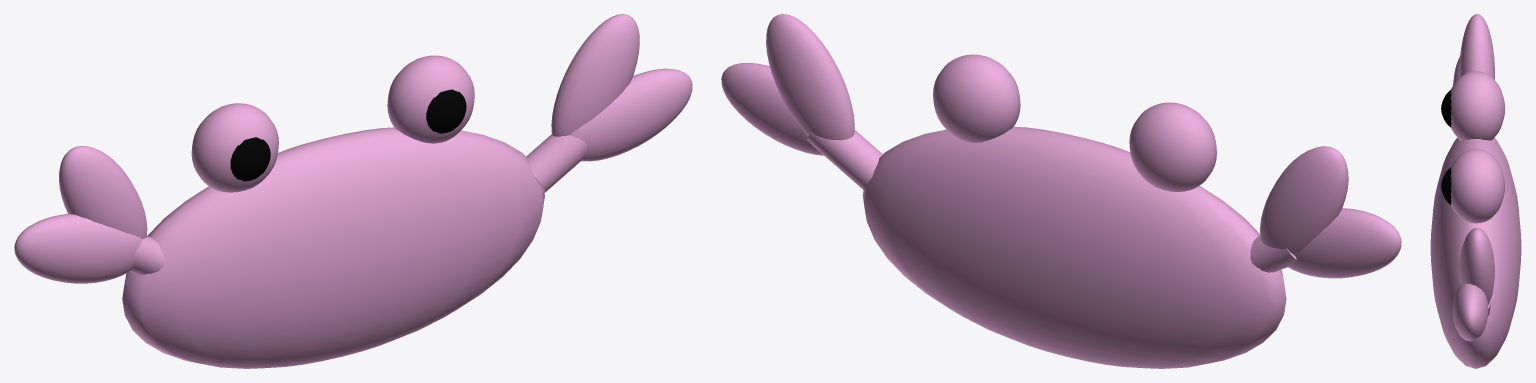
File: Crab.fbx
The picture shows the model from 3 angles, left to right: view 1: azimuth 30°, elevation 25°; view 2: azimuth 150°, elevation 25°; view 3: azimuth 270°, elevation 25°; orthographic projection. The views are drawn at different scales.
Parts seen in each view (by area): view 1: pCylinder2; view 2: pCylinder2; view 3: pCylinder2.
Boxes of the visible parts, x1,y1,x2,y2 form: pCylinder2: (14, 14, 692, 368); pCylinder2: (721, 14, 1401, 368); pCylinder2: (1430, 14, 1521, 368).
Size of the model in its own units: 4.97 by 1.92 by 0.7132.
